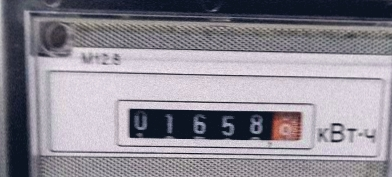0: (131, 109, 148, 130)
1: (161, 110, 175, 134)
5: (219, 112, 235, 136)
6: (190, 111, 208, 135)
8: (247, 112, 264, 134)
9: (276, 120, 292, 141)
screen: (112, 95, 318, 153)
